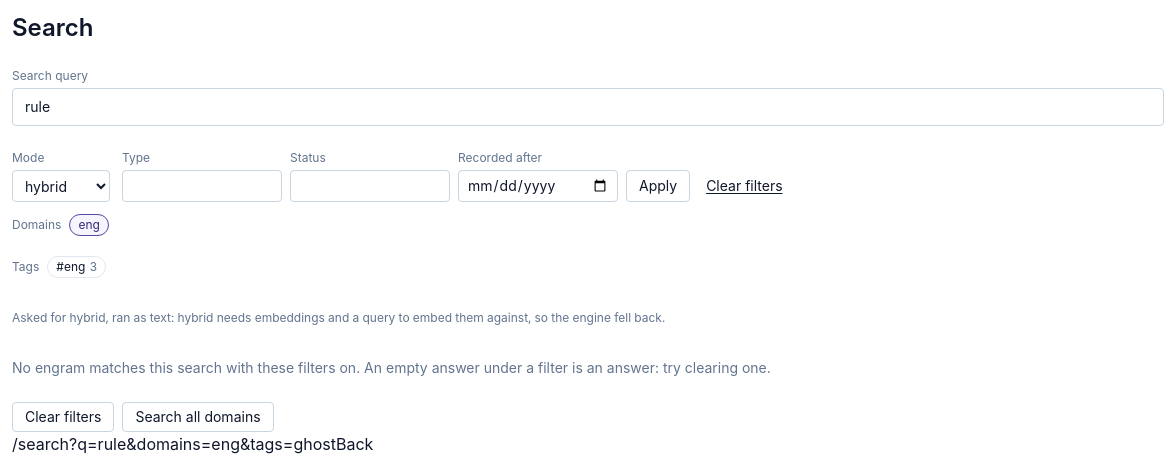
Scenario: the search screen › offers a way out of an empty answer under a filter
This screenshot has width=1176, height=471.
Expected: the text "No engram matches" is shown, [12,359,771,376]
Step 1. Click the button "Search all domains" → [198, 417], box [122,402,274,432]
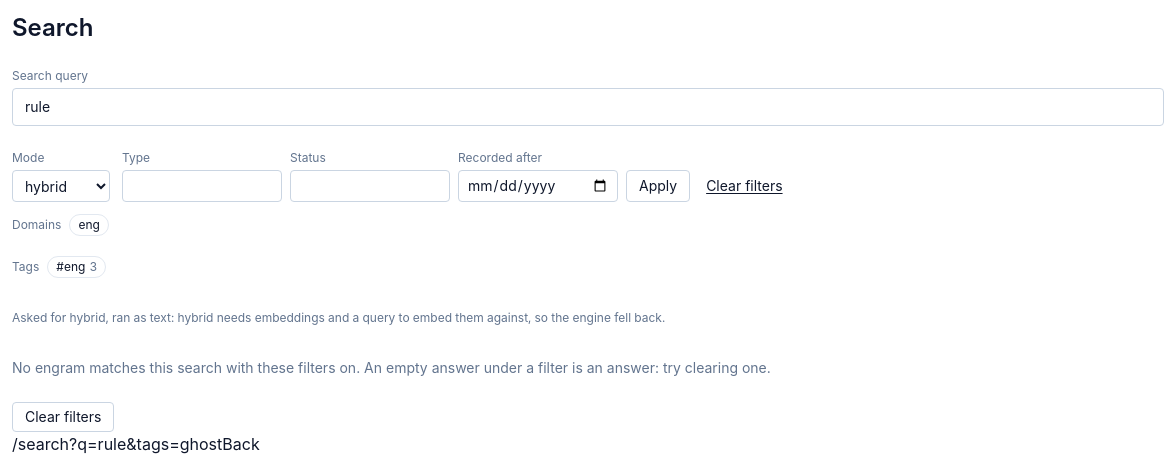
Expected: the text with test id "url" shows "tags=ghost", [12,434,222,454]
Now the text with test id "url" no longer shows "domains=eng"
Step 2. Click the 2nd button "Clear filters" → [63, 417], box [12,402,114,432]
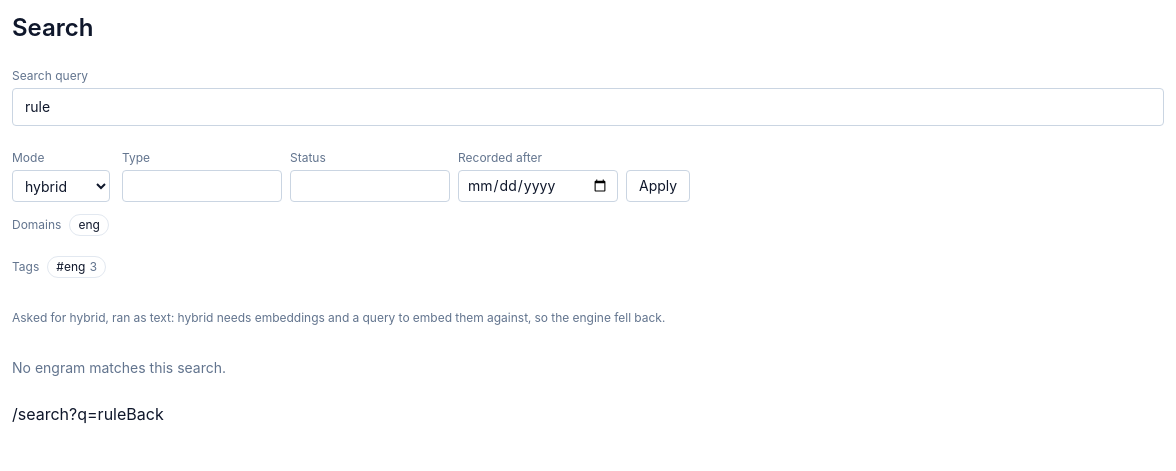
Now the text with test id "url" reads "/search?q=rule", box [12,404,126,424]
